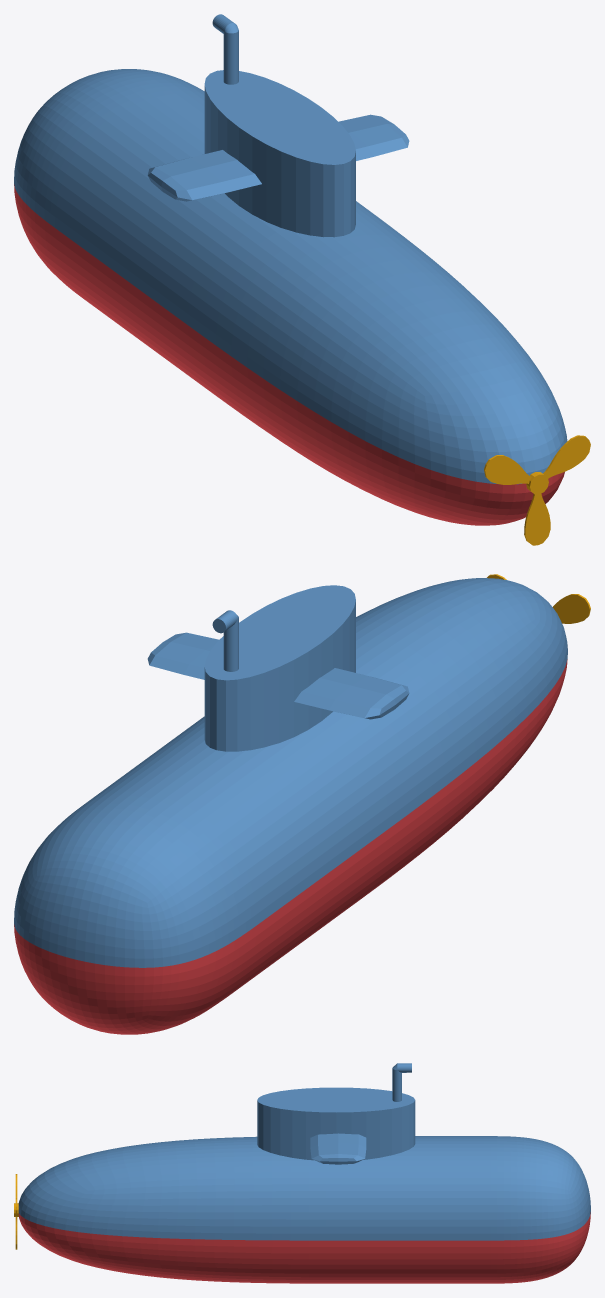
File: submarine2.fbx
The picture shows the model from 3 angles, top to bottom: view 1: azimuth 30°, elevation 25°; view 2: azimuth 150°, elevation 25°; view 3: azimuth 270°, elevation 25°; orthographic projection. The views are drawn at different scales.
Parts seen in each view (by area): view 1: Cube.003, Cylinder, Cube.002, Cylinder.001, Cylinder.003; view 2: Cube.003, Cylinder, Cube.002, Cylinder.003, Cylinder.001; view 3: Cube.003, Cylinder, Cube.002, Cylinder.003.
Part boxes in pixels (bbox=[...]): Cube.003: bbox=[14, 69, 567, 525]; Cylinder: bbox=[204, 70, 355, 237]; Cube.002: bbox=[147, 114, 409, 201]; Cylinder.001: bbox=[484, 435, 590, 545]; Cylinder.003: bbox=[212, 14, 238, 84]; Cube.003: bbox=[14, 578, 567, 1034]; Cylinder: bbox=[204, 585, 355, 751]; Cube.002: bbox=[147, 632, 409, 719]; Cylinder.003: bbox=[212, 610, 238, 671]; Cylinder.001: bbox=[487, 574, 590, 623]; Cube.003: bbox=[18, 1136, 590, 1283]; Cylinder: bbox=[257, 1087, 415, 1160]; Cube.002: bbox=[310, 1133, 366, 1164]; Cylinder.003: bbox=[392, 1063, 411, 1101].
Bounding box in the file's own units: 566 × 786 × 1939.
